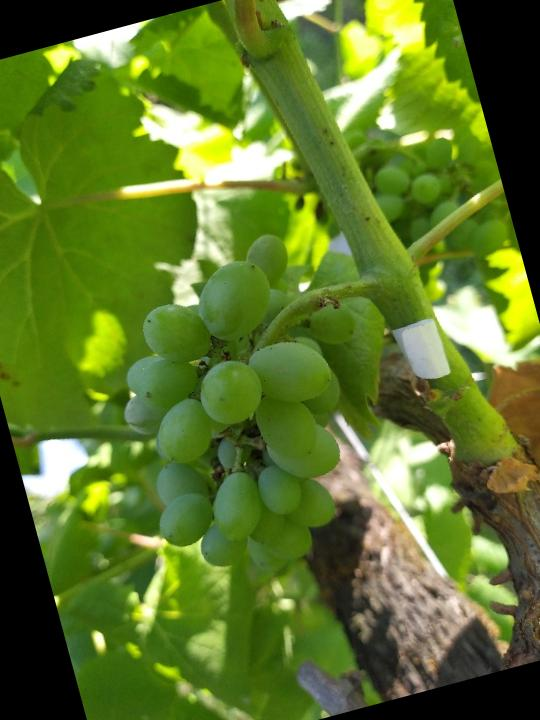grape: (84, 216, 419, 607)
